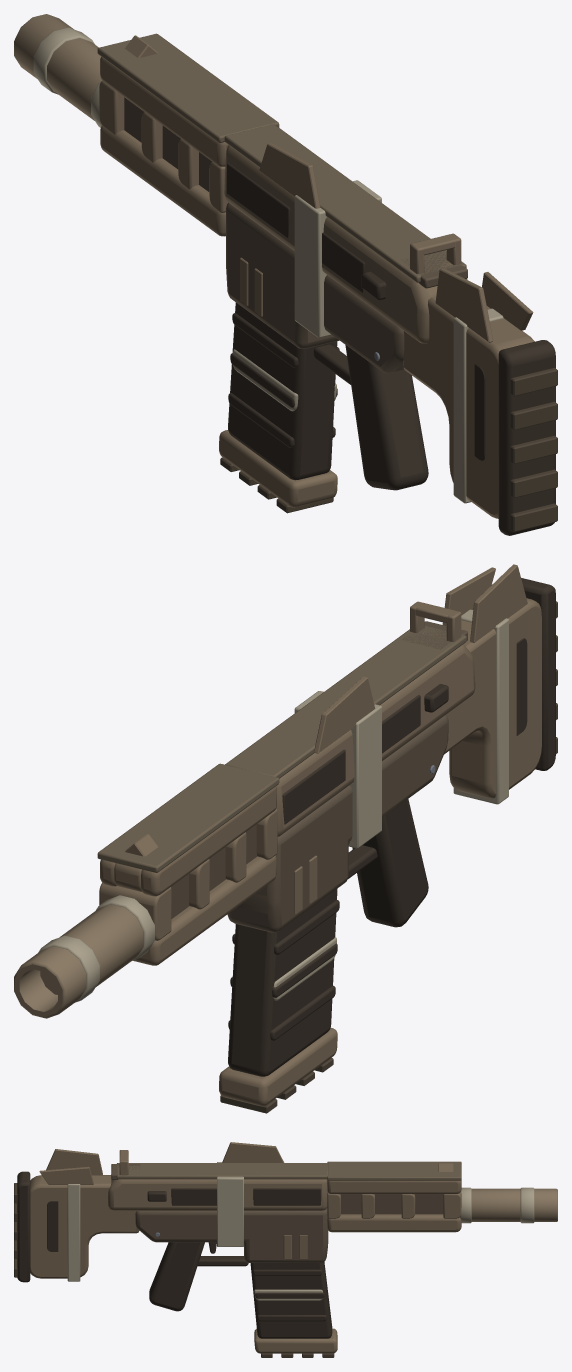
Rendered from w_ar@cardboard.glb.
3 renders of one model, top to bottom at view 1: azimuth 30°, elevation 25°; view 2: azimuth 150°, elevation 25°; view 3: azimuth 270°, elevation 25°, orthographic. The views are drawn at different scales.
Parts seen in each view (by area): view 1: deck_wzB, mag_wzB, body_wzB, guard_wzA, stock_wzA, grip_wzB, tape_wzN, stock_wzB, body_wzA, flap_wzA, flute_wzN, barrel_wzB (+8 smaller); view 2: deck_wzB, mag_wzB, guard_wzA, body_wzB, stock_wzA, tape_wzN, barrel_wzB, grip_wzB, body_wzA, flap_wzA, mag_wzN, body_wzN (+8 smaller); view 3: body_wzB, deck_wzB, stock_wzA, guard_wzA, mag_wzB, tape_wzN, body_wzA, grip_wzB, flap_wzA, barrel_wzB, body_wzN, core_wzB (+7 smaller).
Part boxes in pixels (x1=…): deck_wzB: x1=97, y1=33, x2=466, y2=282; mag_wzB: x1=228, y1=302, x2=339, y2=480; body_wzB: x1=226, y1=202, x2=404, y2=373; guard_wzA: x1=99, y1=56, x2=228, y2=236; stock_wzA: x1=403, y1=296, x2=534, y2=518; grip_wzB: x1=313, y1=344, x2=428, y2=490; tape_wzN: x1=33, y1=27, x2=504, y2=503; stock_wzB: x1=498, y1=340, x2=555, y2=535; body_wzA: x1=224, y1=145, x2=467, y2=343; flap_wzA: x1=259, y1=143, x2=533, y2=342; flute_wzN: x1=220, y1=367, x2=557, y2=531; barrel_wzB: x1=14, y1=14, x2=101, y2=120; deck_wzB: x1=97, y1=626, x2=466, y2=872; mag_wzB: x1=228, y1=888, x2=339, y2=1076; guard_wzA: x1=99, y1=786, x2=277, y2=965; body_wzB: x1=227, y1=715, x2=448, y2=932; stock_wzA: x1=444, y1=598, x2=541, y2=798; tape_wzN: x1=38, y1=609, x2=508, y2=1002; barrel_wzB: x1=14, y1=904, x2=143, y2=1018; grip_wzB: x1=348, y1=799, x2=428, y2=927; body_wzA: x1=276, y1=644, x2=475, y2=836; flap_wzA: x1=314, y1=564, x2=527, y2=753; mag_wzN: x1=219, y1=1028, x2=337, y2=1106; body_wzN: x1=282, y1=695, x2=420, y2=824; body_wzB: x1=135, y1=1208, x2=328, y2=1262; deck_wzB: x1=116, y1=1161, x2=461, y2=1180; stock_wzA: x1=30, y1=1175, x2=139, y2=1278; guard_wzA: x1=327, y1=1180, x2=461, y2=1232; mag_wzB: x1=250, y1=1262, x2=332, y2=1338; tape_wzN: x1=67, y1=1162, x2=534, y2=1281; body_wzA: x1=108, y1=1179, x2=327, y2=1210; grip_wzB: x1=149, y1=1242, x2=248, y2=1311; flap_wzA: x1=39, y1=1142, x2=284, y2=1184; barrel_wzB: x1=460, y1=1188, x2=557, y2=1221; body_wzN: x1=171, y1=1188, x2=321, y2=1205; core_wzB: x1=340, y1=1194, x2=443, y2=1214.
Size of the model in its own units: 0.1 by 0.4899 by 1.2.
